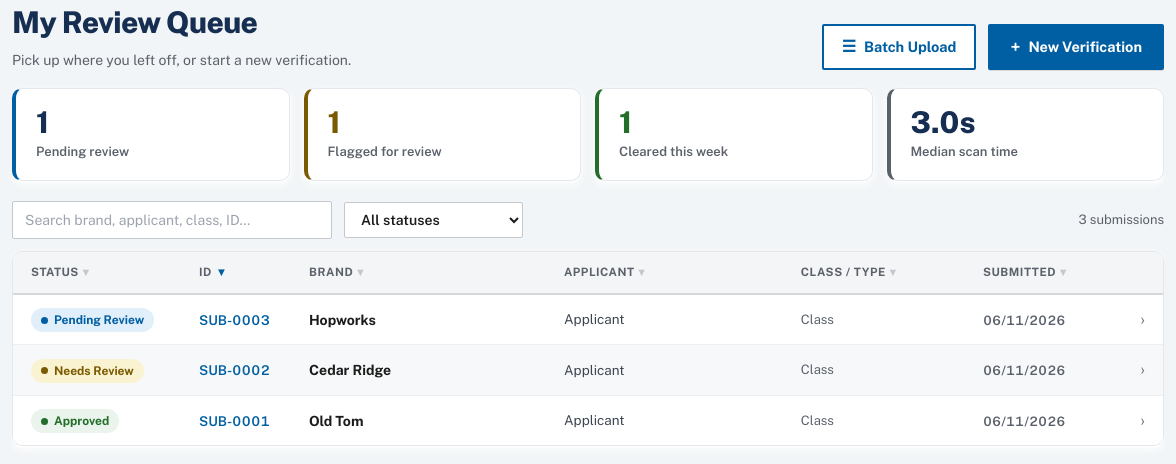
Test: QueuePage sorting & filtering › keeps the count summary in sync
Expected: the button with aria-label "Open submission 1" is shown, [13,396,1163,445]
Select "Approved" in the dropdown named "Filter by status" at (434, 220), box [344,202,523,238]
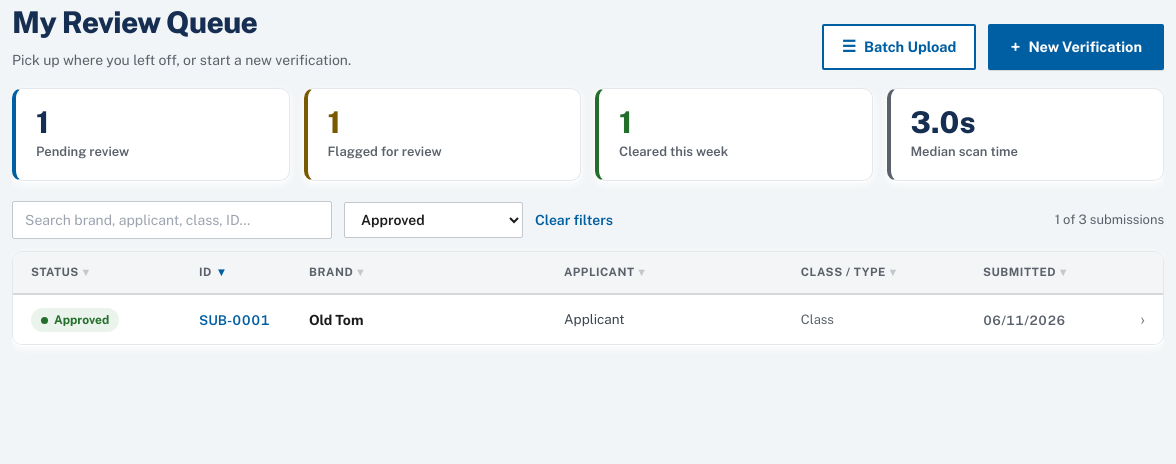
Result: the text "1 of 3 submissions" is shown at [1055,210,1164,229]
